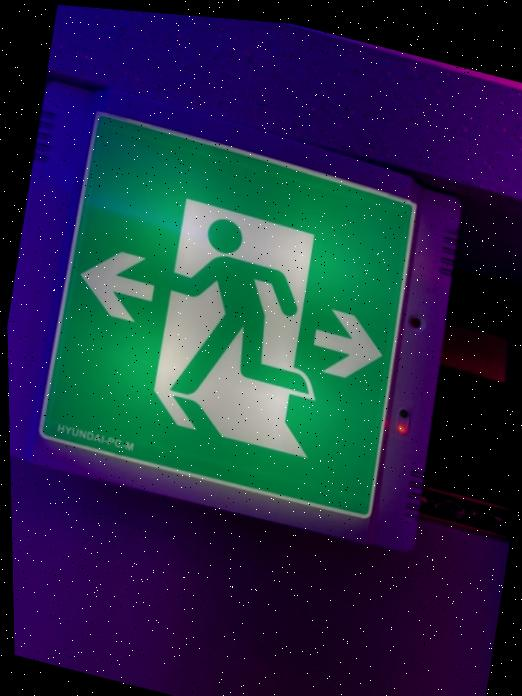emergency_exit: (4, 4, 519, 693), (38, 109, 435, 546)
